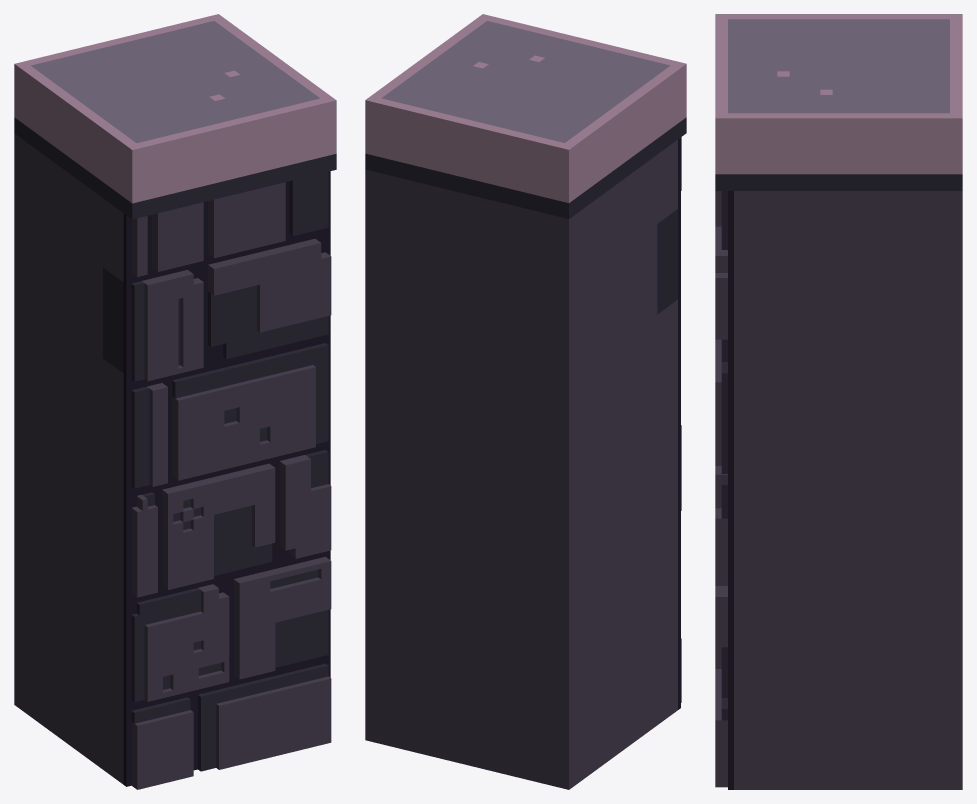
File: wallBlock.obj
3 renders of one model, left to right at view 1: azimuth 30°, elevation 25°; view 2: azimuth 150°, elevation 25°; view 3: azimuth 270°, elevation 25°, orthographic. The views are drawn at different scales.
Size of the model in its own units: 4 by 12 by 4.
